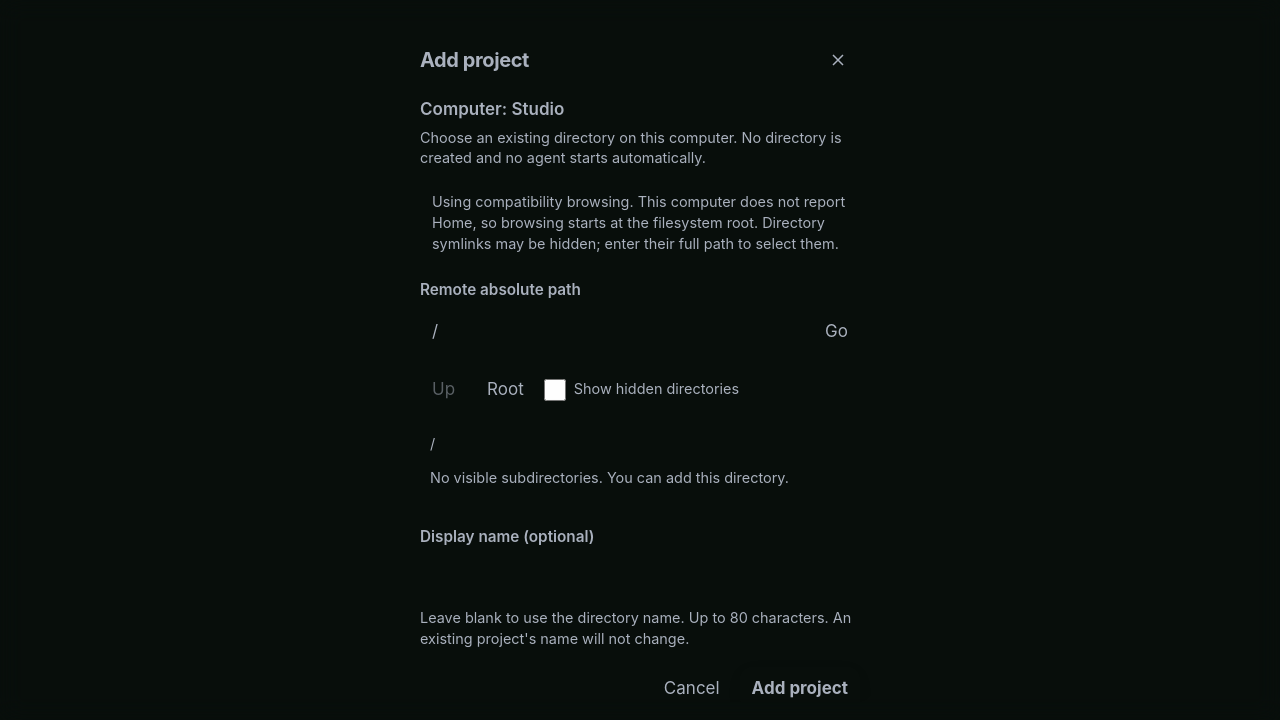
Test: Add project dialog › persists the legacy canonical path and reconciles an unknown write without another add
The image size is (1280, 720).
Expected: the text "Using compatibility browsing. This computer does not report Home, so browsing starts at the filesystem root. Directory s" is shown, [432, 193, 845, 252]
Replace the text in the field labelled "Remote absolute path" with "/alias": coordinates (613, 332) [420, 308, 805, 356]
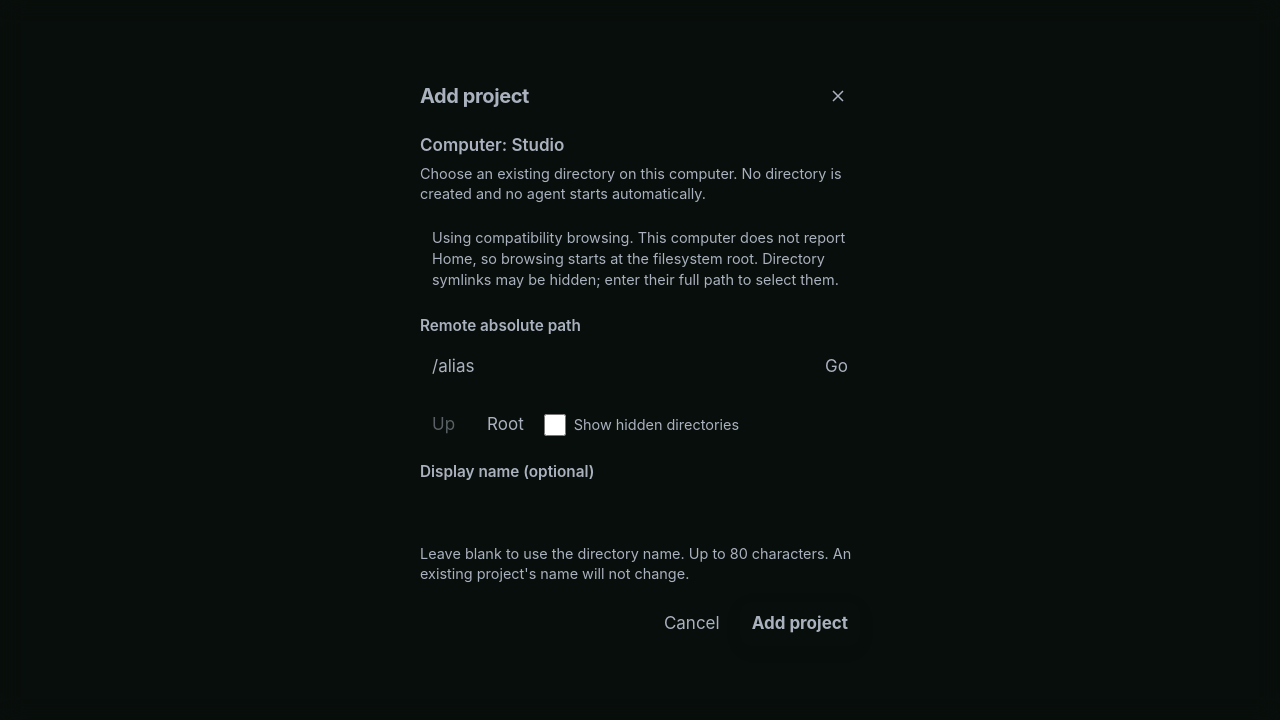
Click the button "Add project": coordinates (800, 624) [740, 602, 860, 646]
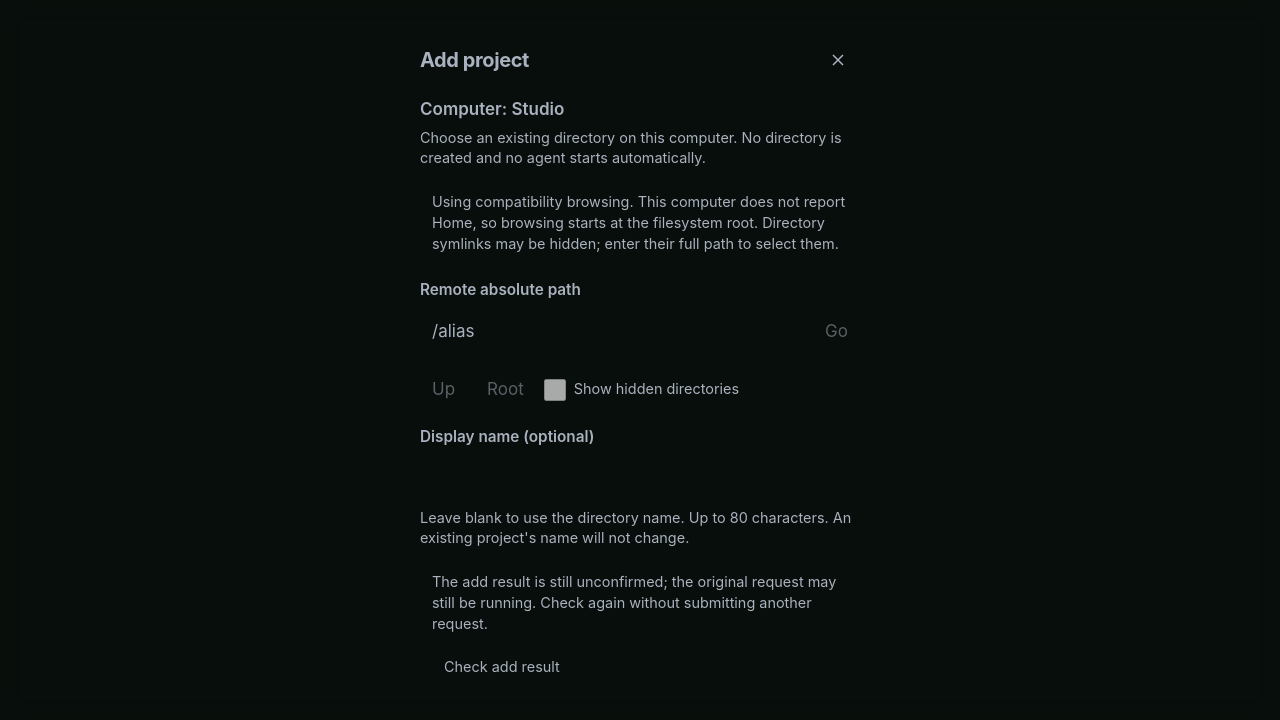
Result: the text "original request may still be running" is shown at [432, 573, 836, 632]
